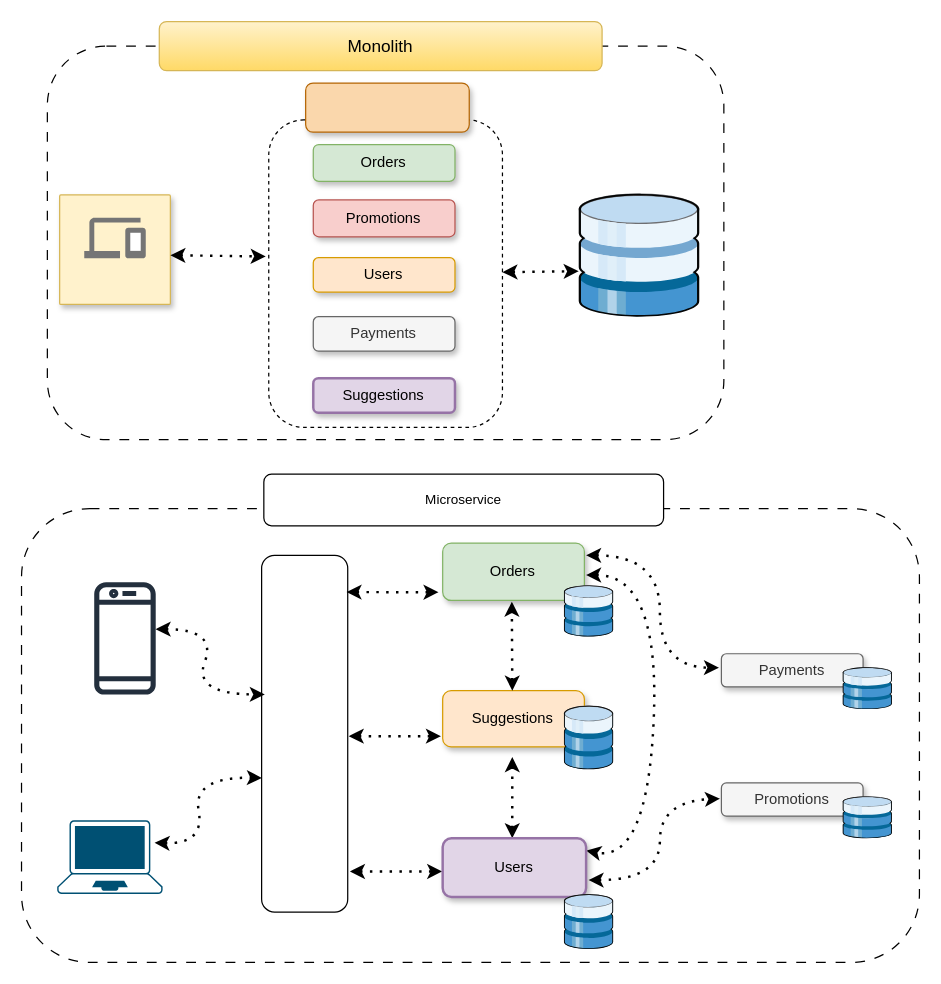
Some shapes in this 941 by 984 pixel diagram are drawn without their labels. Here are the shapes that lost their labels. From the top down, the centre of each, then its label:
At pixel 388 109: "Backend".
At pixel 116 251: "Desktop and Mobile".
At pixel 304 733: "API Gateway".
